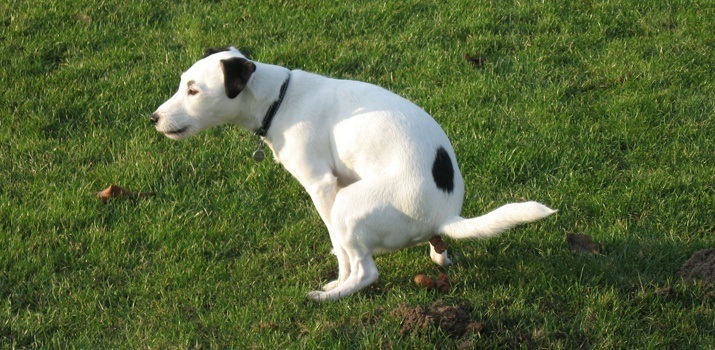dog_pooping: (147, 44, 562, 309)
